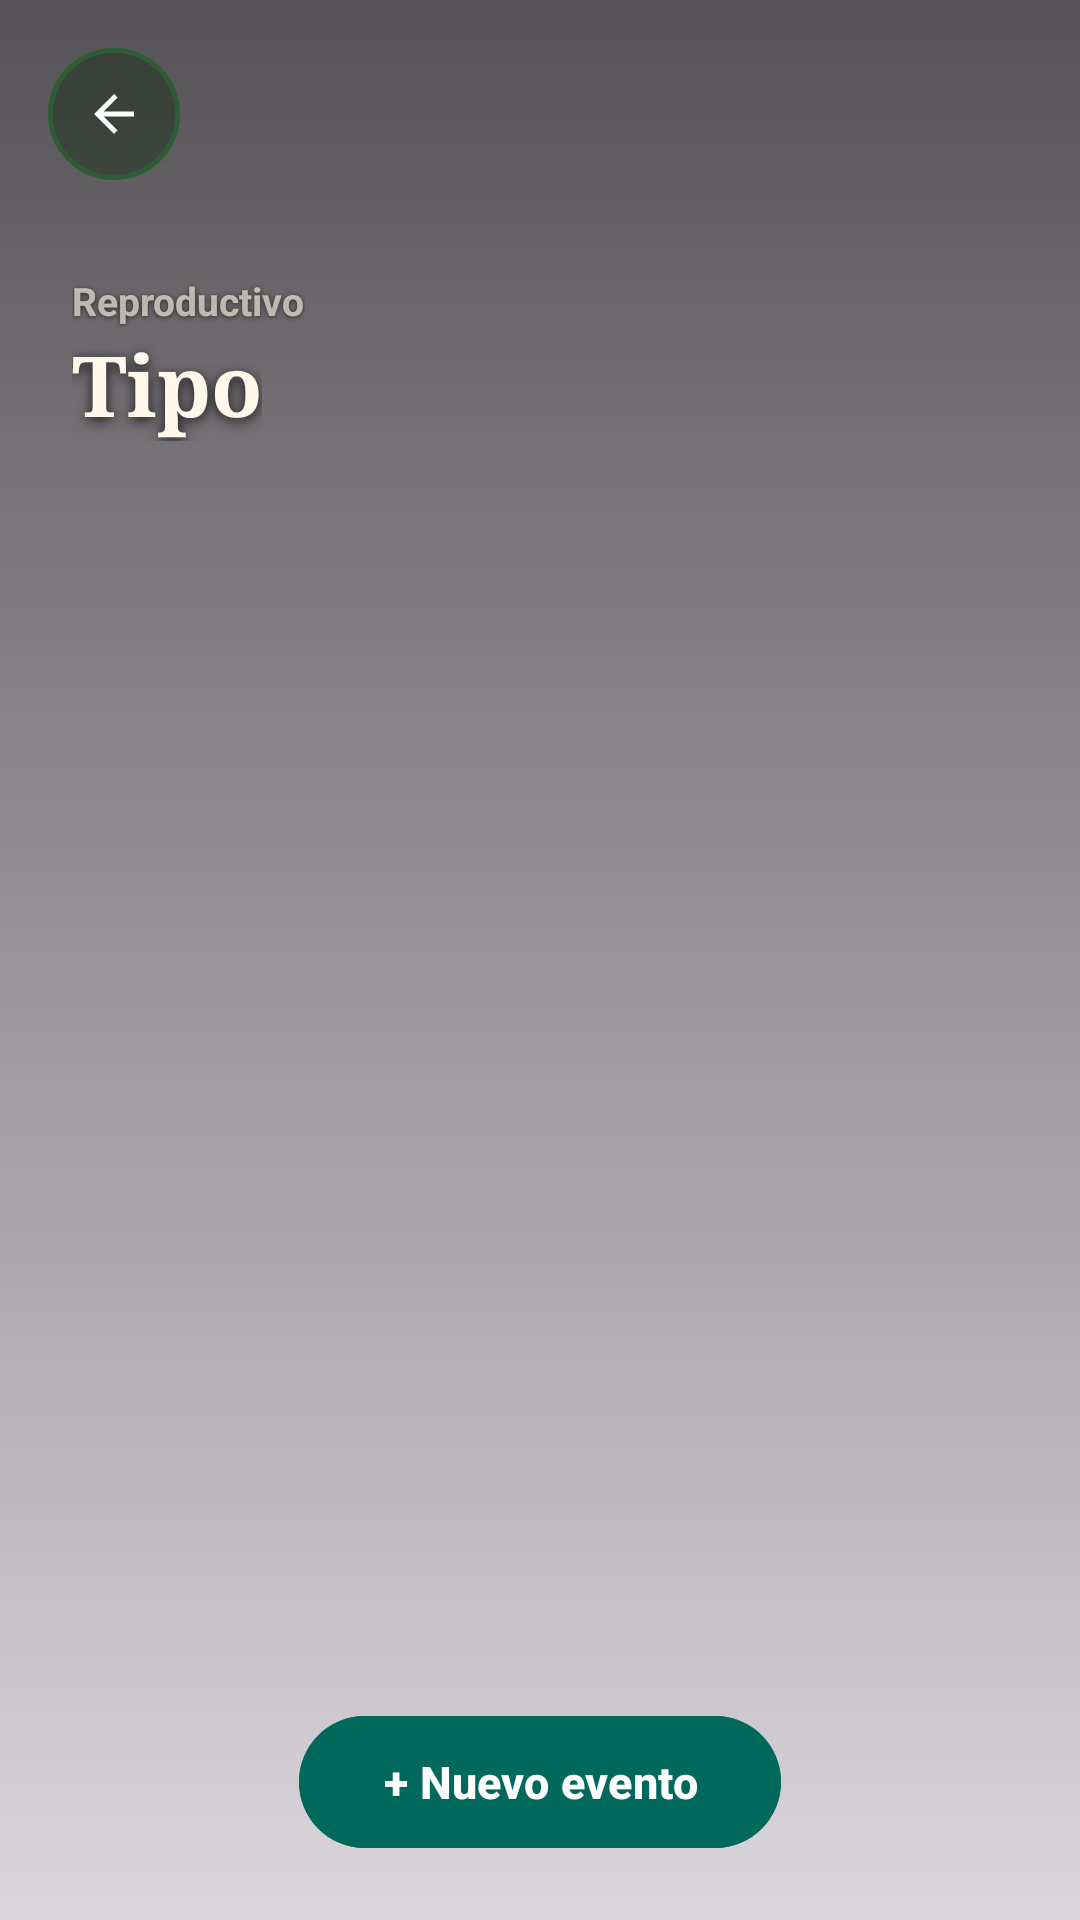

Icon click points for this 1080 x 1920 phone screenshot, format [x,y]:
arrow back: [114,114]
